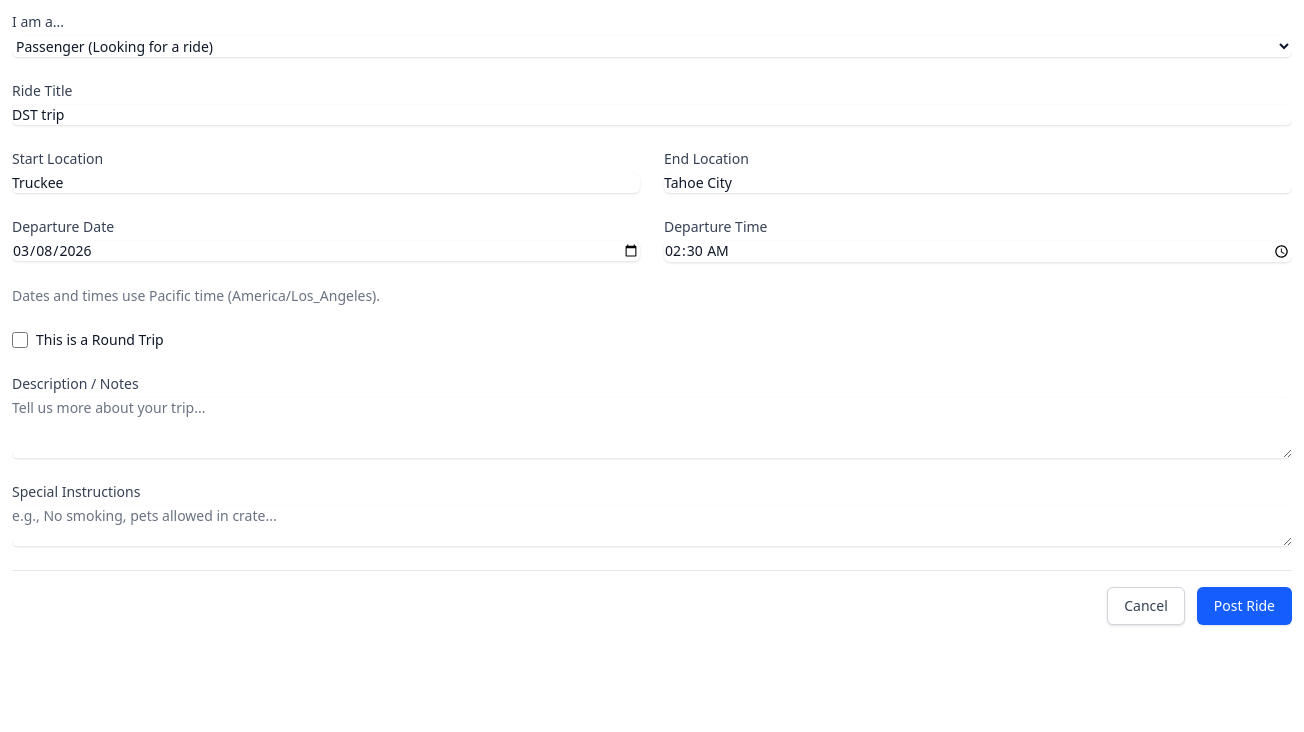
it: RideForm › rejects a Pacific DST gap before geocoding or saving
Click the button "Post Ride" at (1244,606), box [1197,587,1292,625]
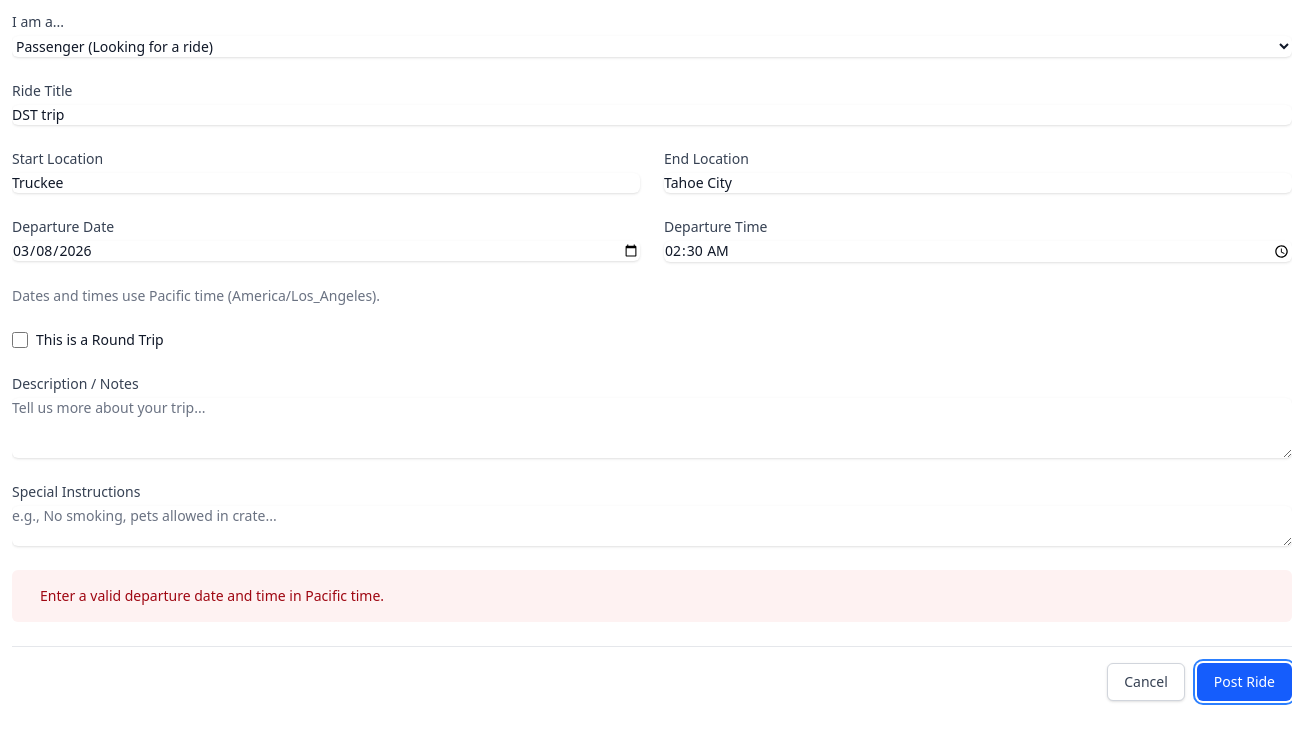
Result: the heading "Enter a valid departure date and time in Pacific time." is shown at [40,586,384,606]
